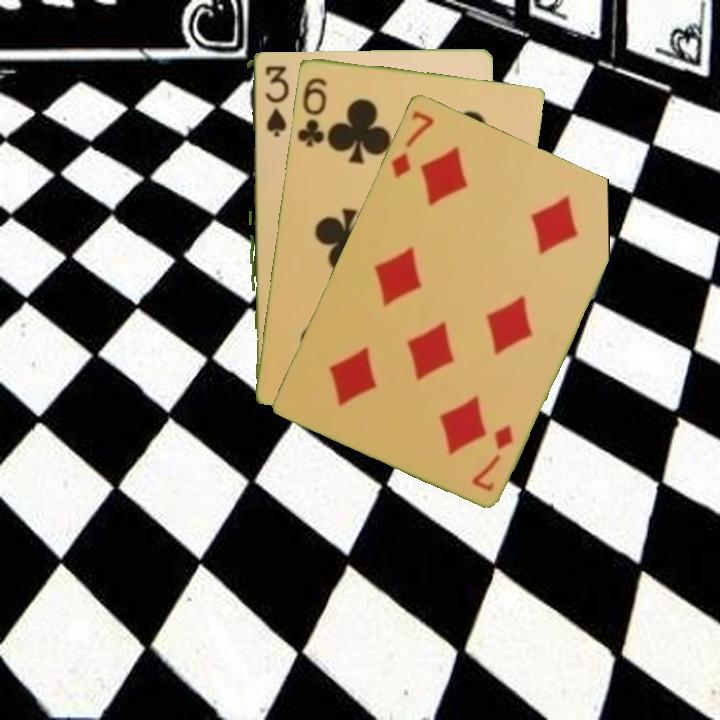3s: (261, 62, 284, 140)
6c: (293, 73, 329, 150)
7d: (387, 106, 437, 181), (468, 421, 517, 494)
